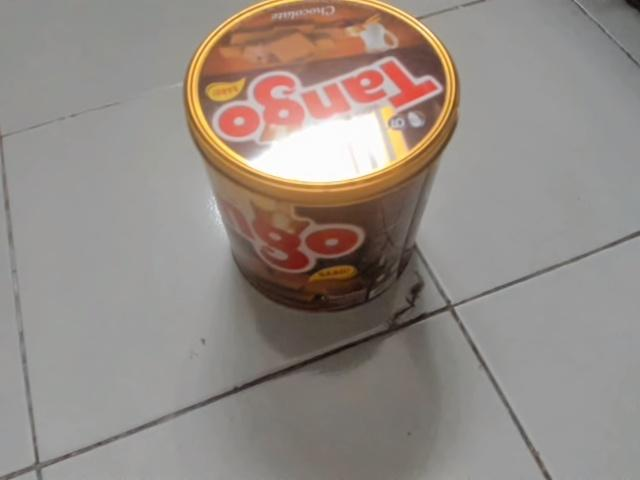anorganik: (179, 1, 462, 319)
